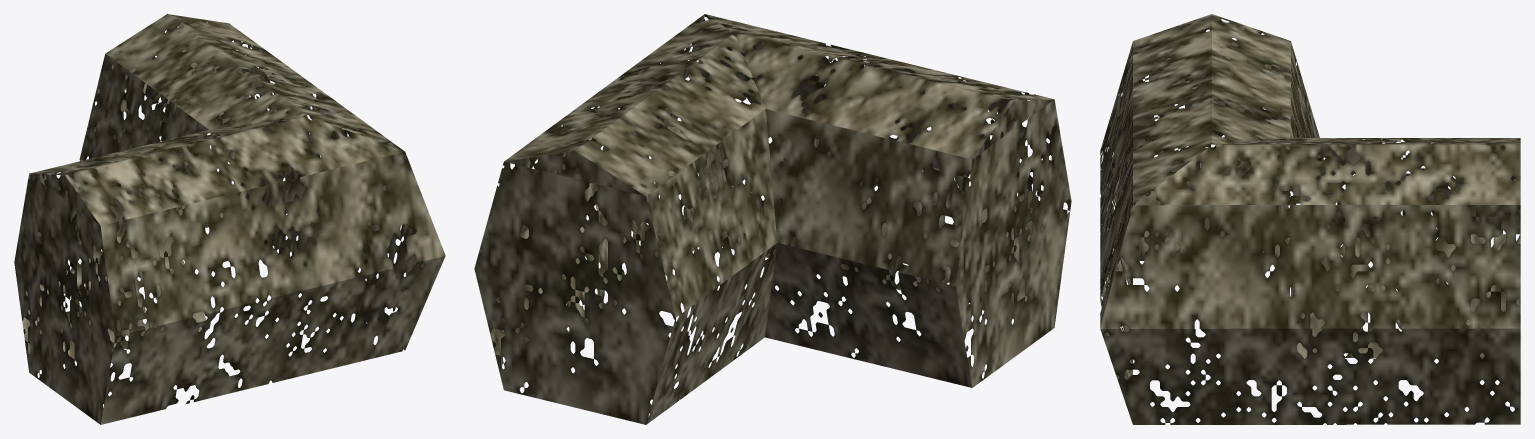
File: bush_square_corner_dead.fbx
3 renders of one model, left to right at view 1: azimuth 30°, elevation 25°; view 2: azimuth 150°, elevation 25°; view 3: azimuth 270°, elevation 25°, orthographic. The views are drawn at different scales.
Parts seen in each view (by area): view 1: bush_square_corner_dead; view 2: bush_square_corner_dead; view 3: bush_square_corner_dead.
Boxes of the visible parts, bbox=[...] form: bush_square_corner_dead: bbox=[14, 14, 445, 424]; bush_square_corner_dead: bbox=[474, 14, 1071, 424]; bush_square_corner_dead: bbox=[1100, 14, 1520, 424].
Size of the model in its own units: 136 by 87.65 by 135.
Materials: 1 (1 with a texture image).
